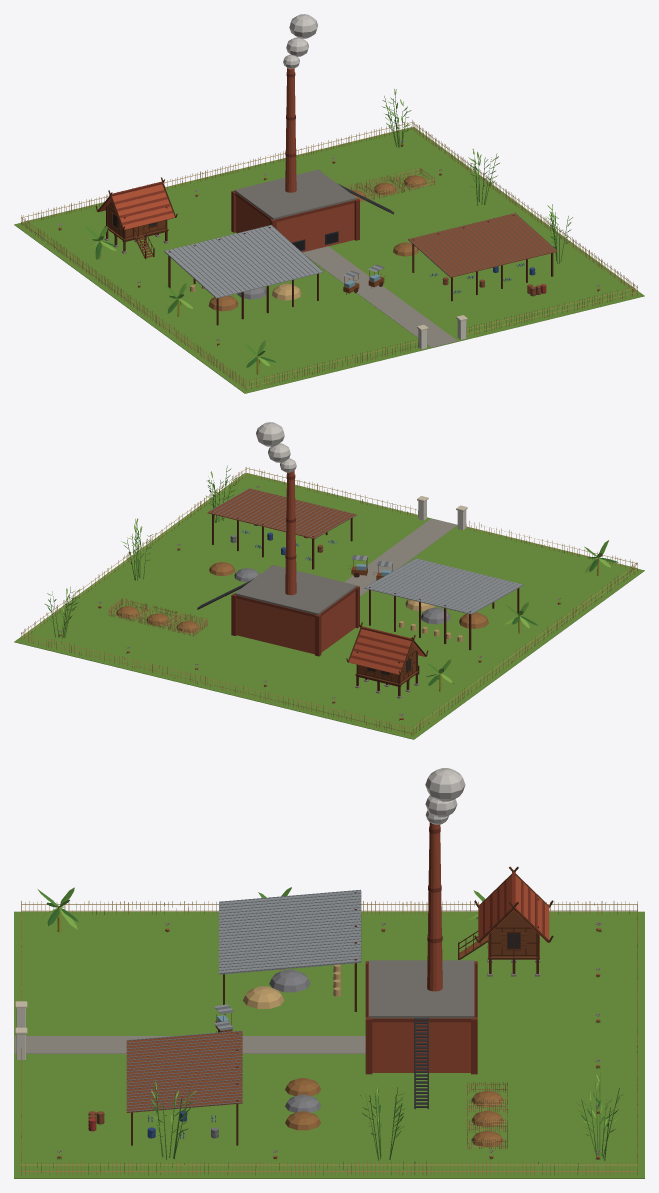
Rendered from waste.glb.
3 renders of one model, top to bottom at view 1: azimuth 30°, elevation 25°; view 2: azimuth 150°, elevation 25°; view 3: azimuth 270°, elevation 25°, orthographic. The views are drawn at different scales.
Visible parts, largest first — view 1: body; view 2: body; view 3: body.
Boxes of the visible parts, <box> form: body: <box>14,14,644,393</box>; body: <box>14,422,644,739</box>; body: <box>14,768,644,1178</box>.
Bounding box in the file's own units: 47.9 × 24.23 × 47.9.
